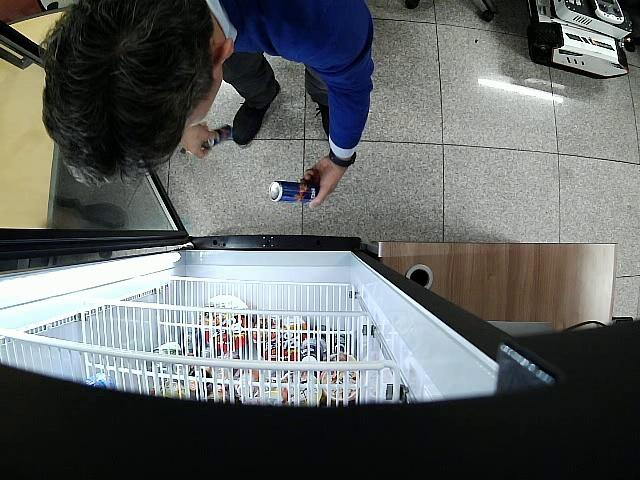00_hand: (300, 164, 346, 208), (180, 126, 217, 159)
16_hot6: (269, 180, 318, 203), (207, 124, 233, 146)
